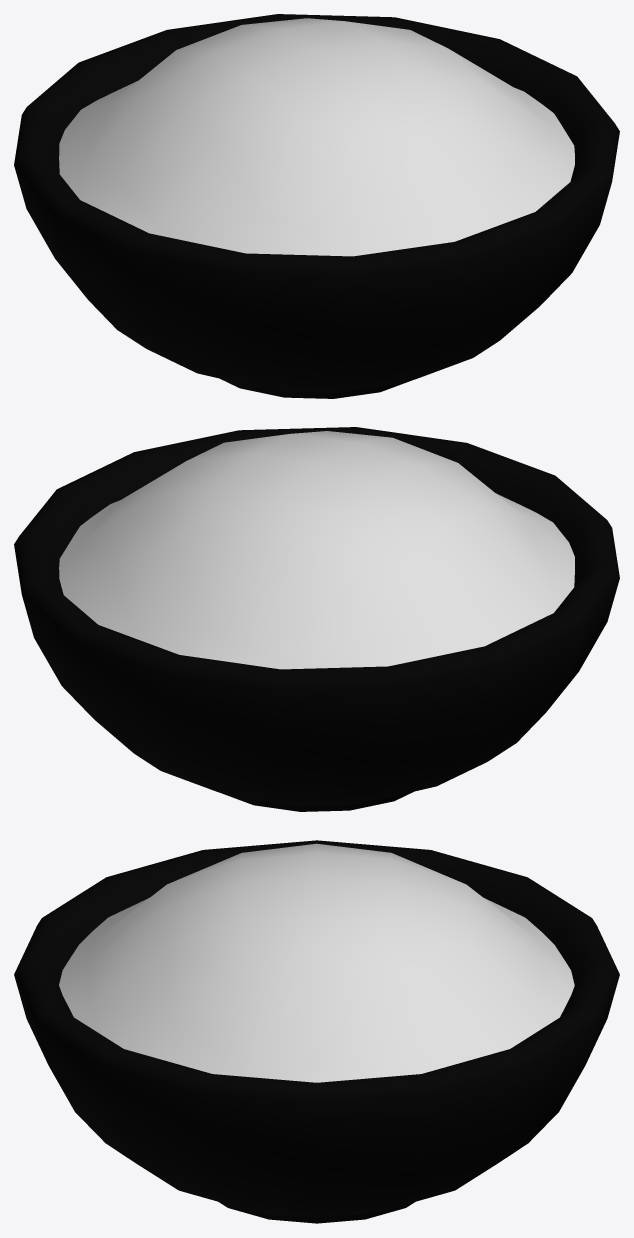
File: ASFTR_Bowl_RiceUncooked.fbx
3 views of the same model, one above another, from view 1: azimuth 30°, elevation 25°; view 2: azimuth 150°, elevation 25°; view 3: azimuth 270°, elevation 25° (orthographic).
Parts seen in each view (by area): view 1: ASFTR_Bowl_RiceUncooked; view 2: ASFTR_Bowl_RiceUncooked; view 3: ASFTR_Bowl_RiceUncooked.
Boxes of the visible parts, bbox=[...] form: ASFTR_Bowl_RiceUncooked: bbox=[14, 14, 619, 398]; ASFTR_Bowl_RiceUncooked: bbox=[14, 427, 619, 811]; ASFTR_Bowl_RiceUncooked: bbox=[14, 840, 619, 1223].
Bounding box in the file's own units: 60.78 × 32.29 × 60.78.
